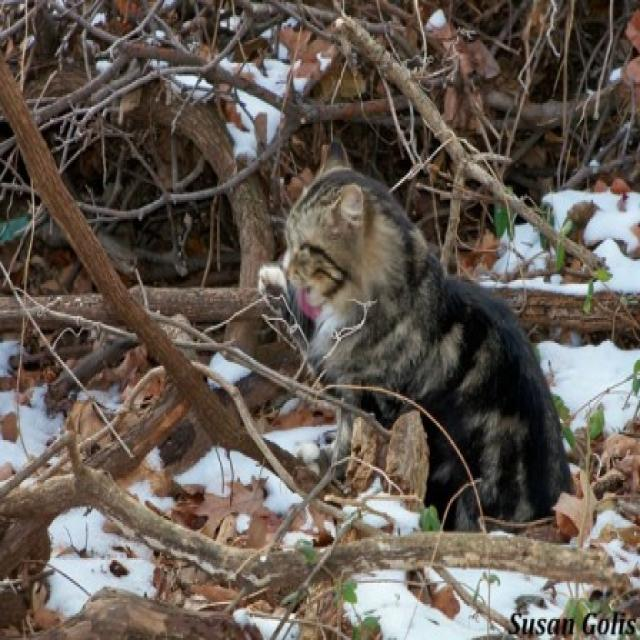cat: (264, 142, 570, 529)
